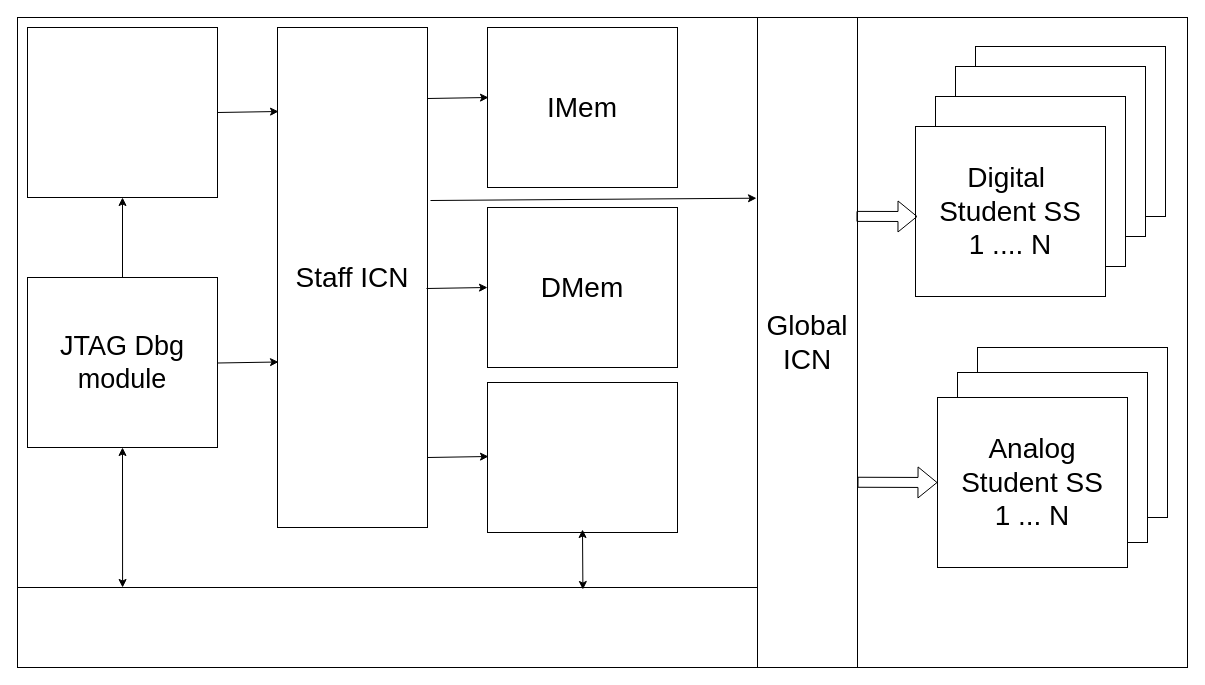
Image size: 1205x685. Some labels were removed from this diagram. The centre of each missing label's shape, as x and y in pixels:
"IO Cell Frame" belongs at point (387, 627).
"RISC-V Core" belongs at point (122, 112).
"Staff Peripherals" belongs at point (582, 457).
